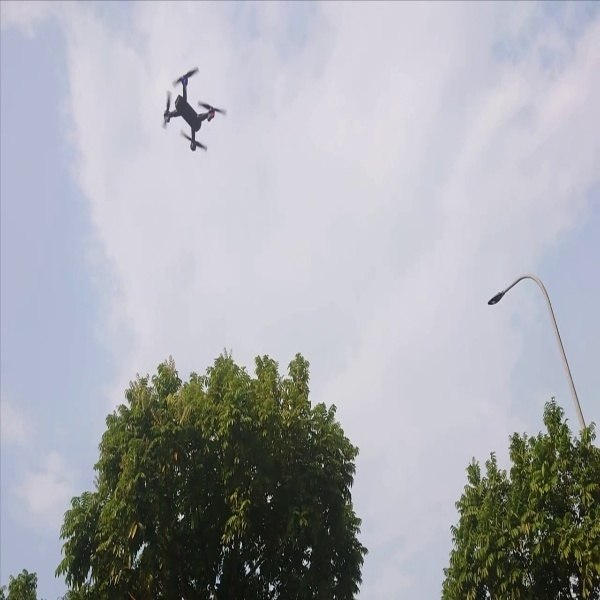drone: (149, 64, 230, 154)
